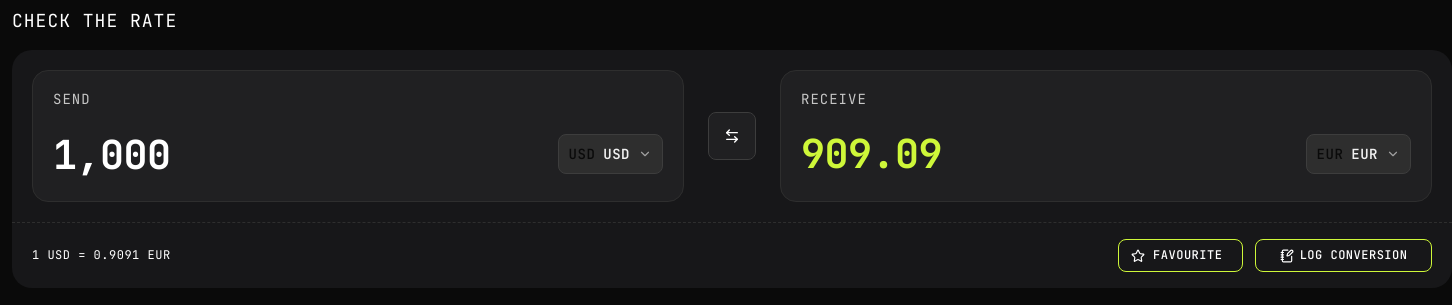
Scenario: RateChecker › amount and swap interactions › swaps send and receive currencies
Check: the text "909.09" is shown, box x1=801 y1=127 x2=942 y2=180
Click the button named "Swap send and receive currencies": {"x": 732, "y": 136} x1=708 y1=112 x2=756 y2=160
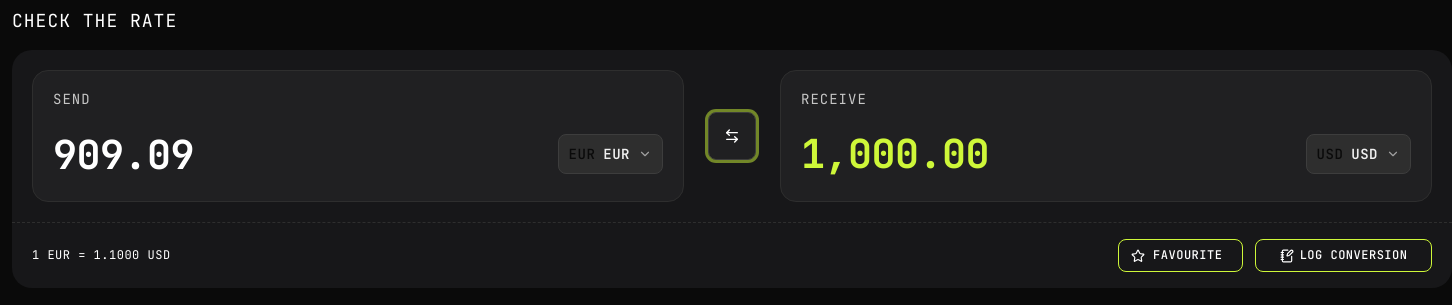
Check: the text "1 EUR = 1.1000 USD" is shown, box x1=32 y1=248 x2=171 y2=263
